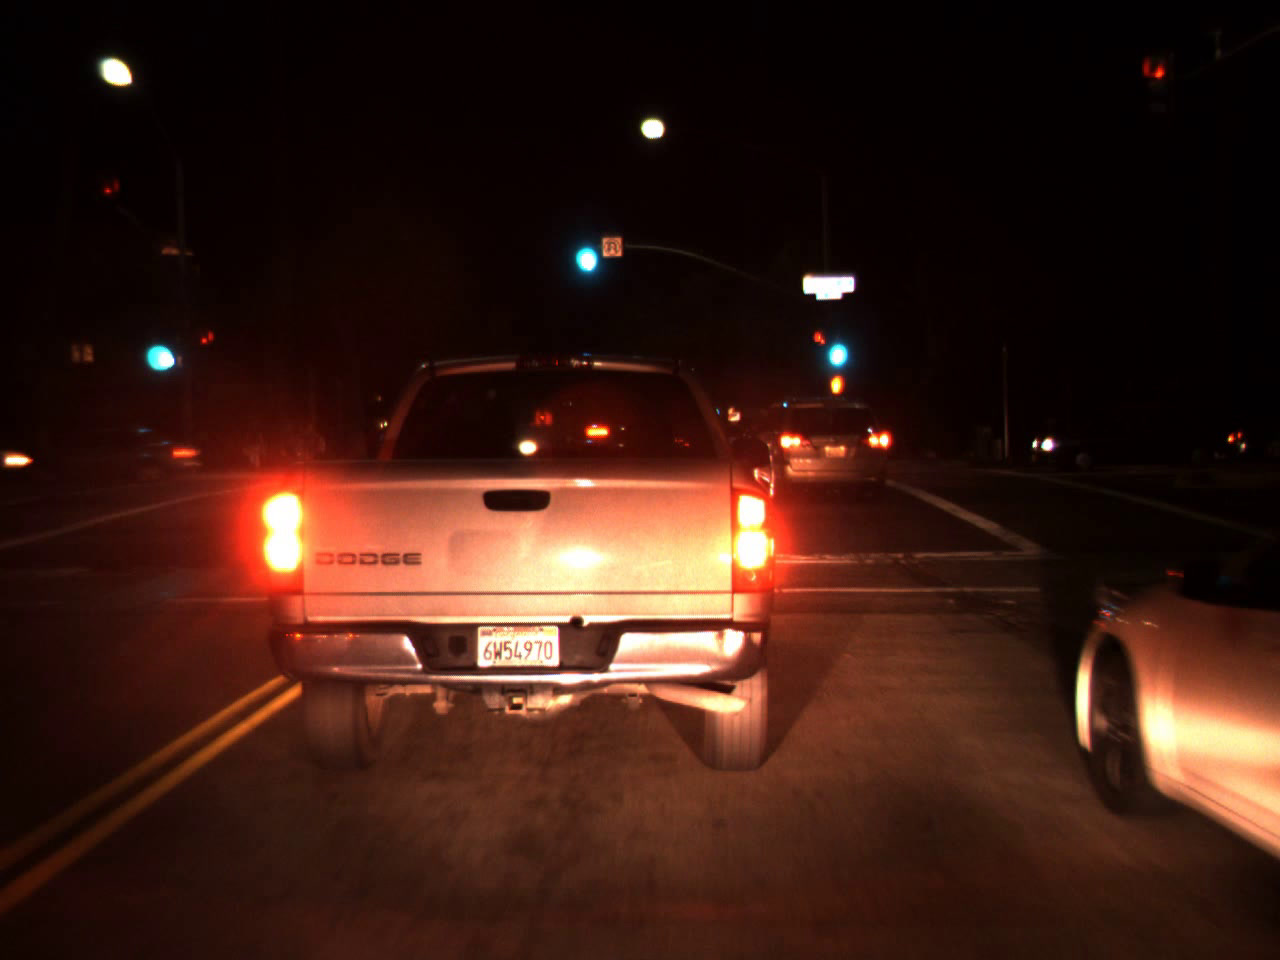go: (137, 310, 176, 382), (567, 213, 601, 282), (821, 313, 851, 376)
